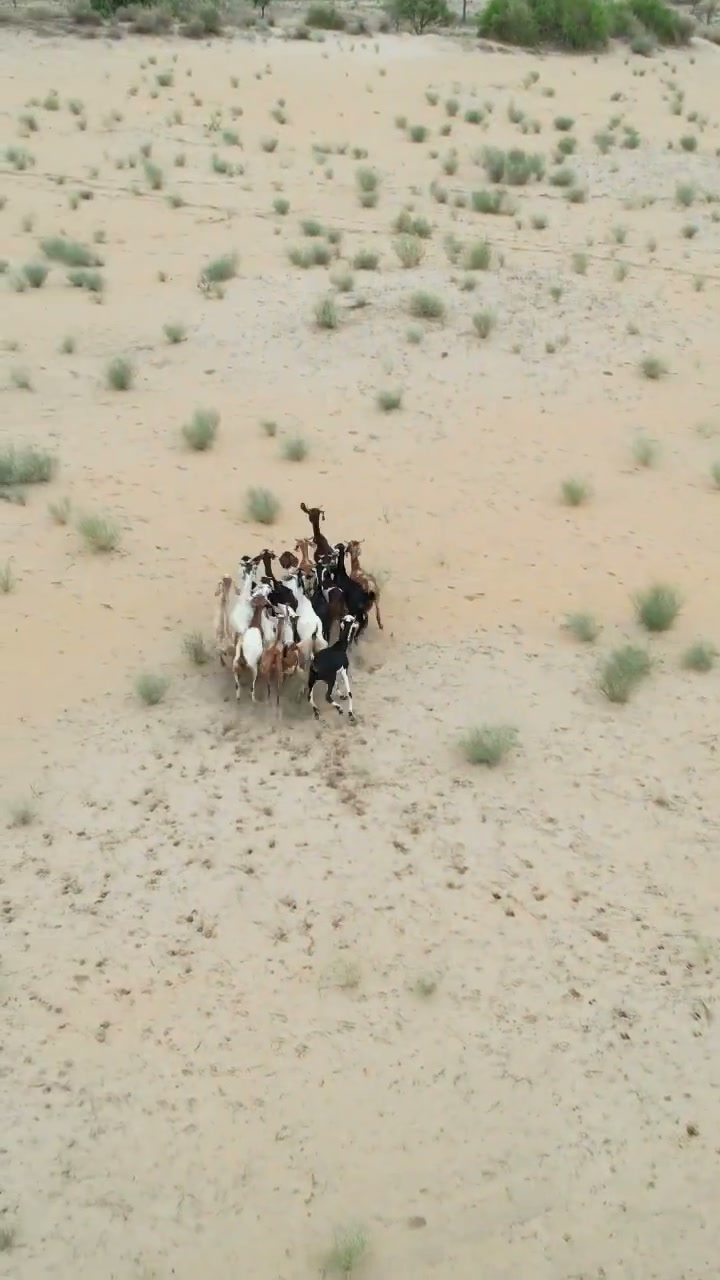animal_foot_print: (0, 727, 709, 1265)
